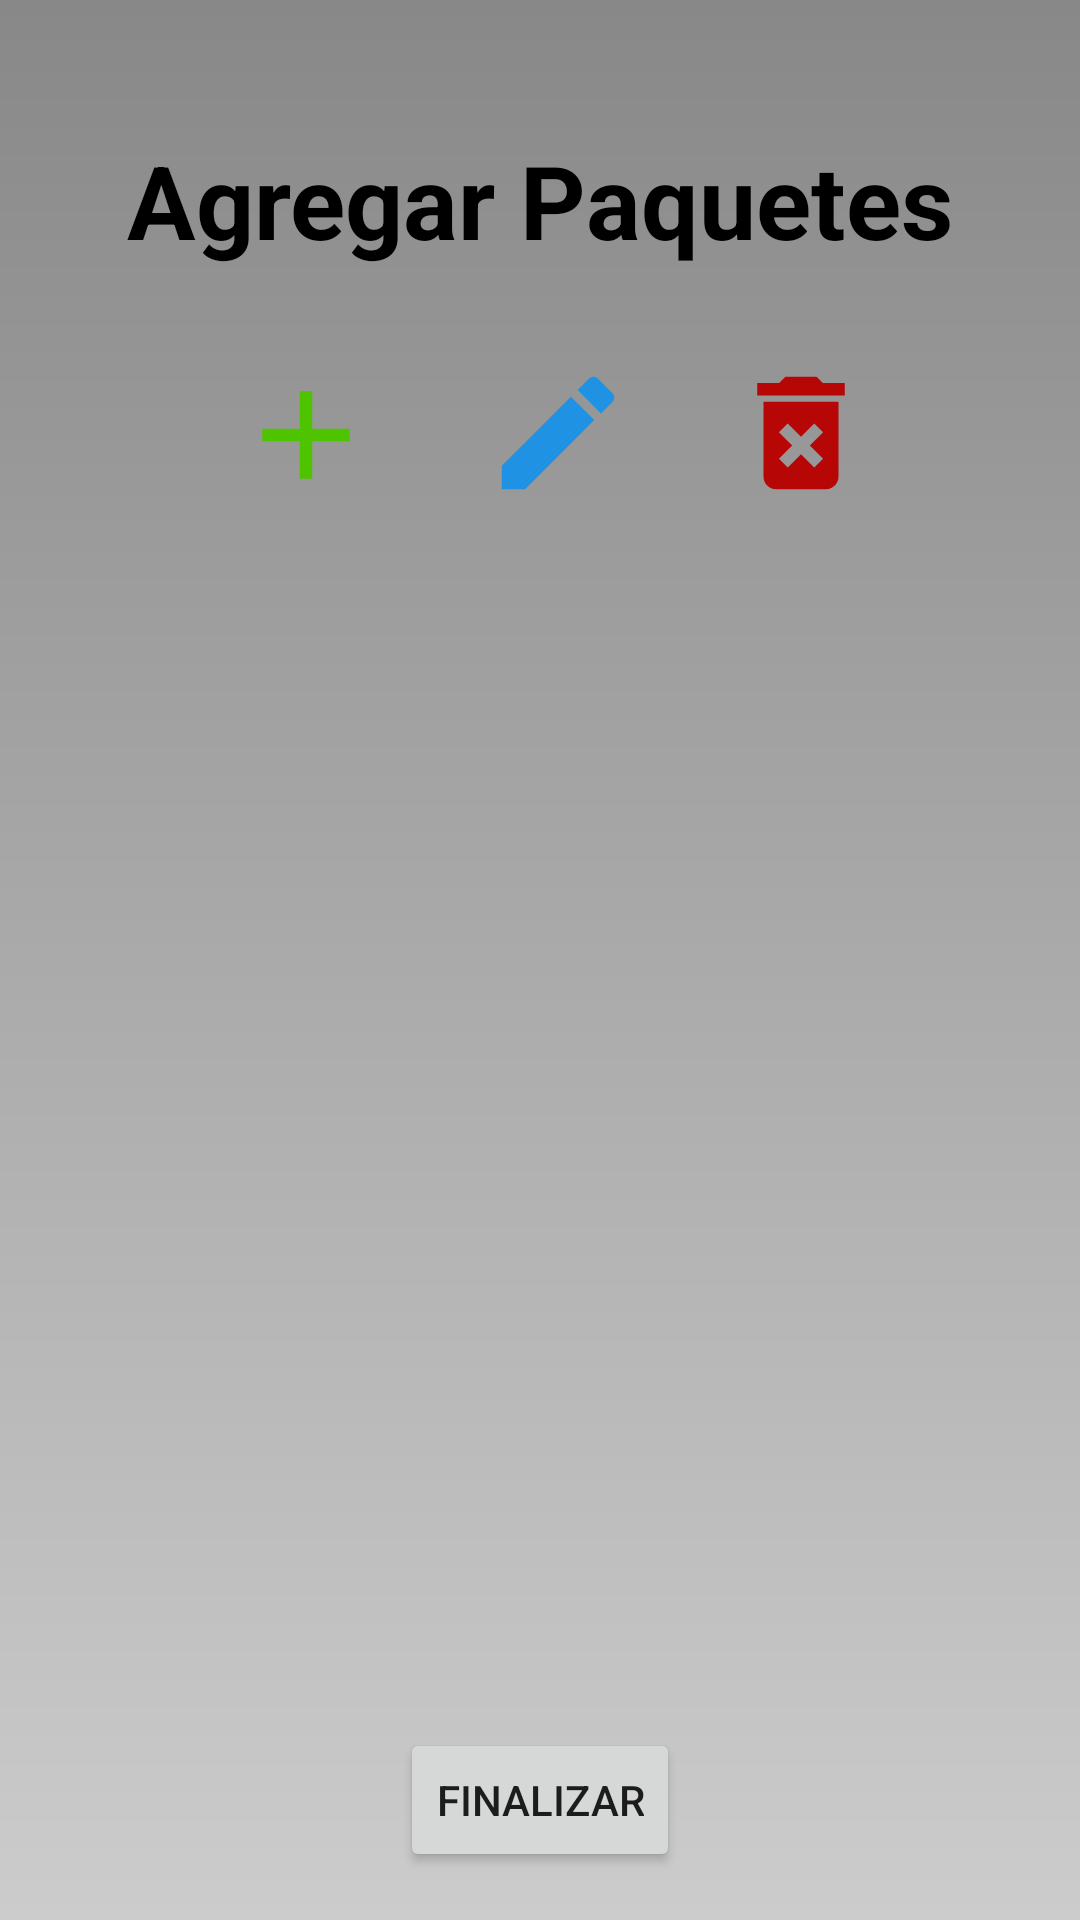

Screen size 1080×1920. Icon name, then its box in pixels as (x1, y1, x2, y2):
add: (262, 391, 350, 479)
delete forever: (757, 376, 845, 490)
edit: (501, 376, 614, 490)
